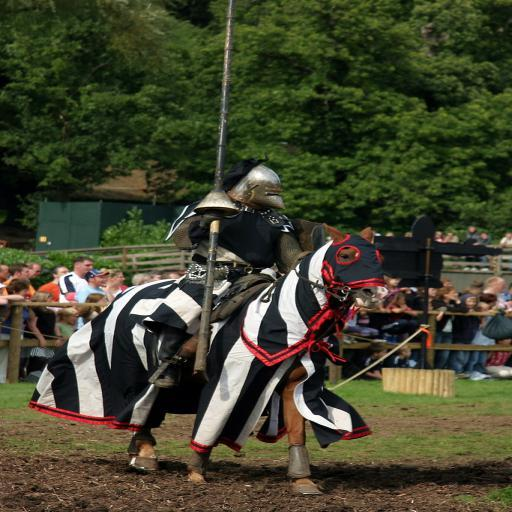Horse: (91, 224, 390, 496)
